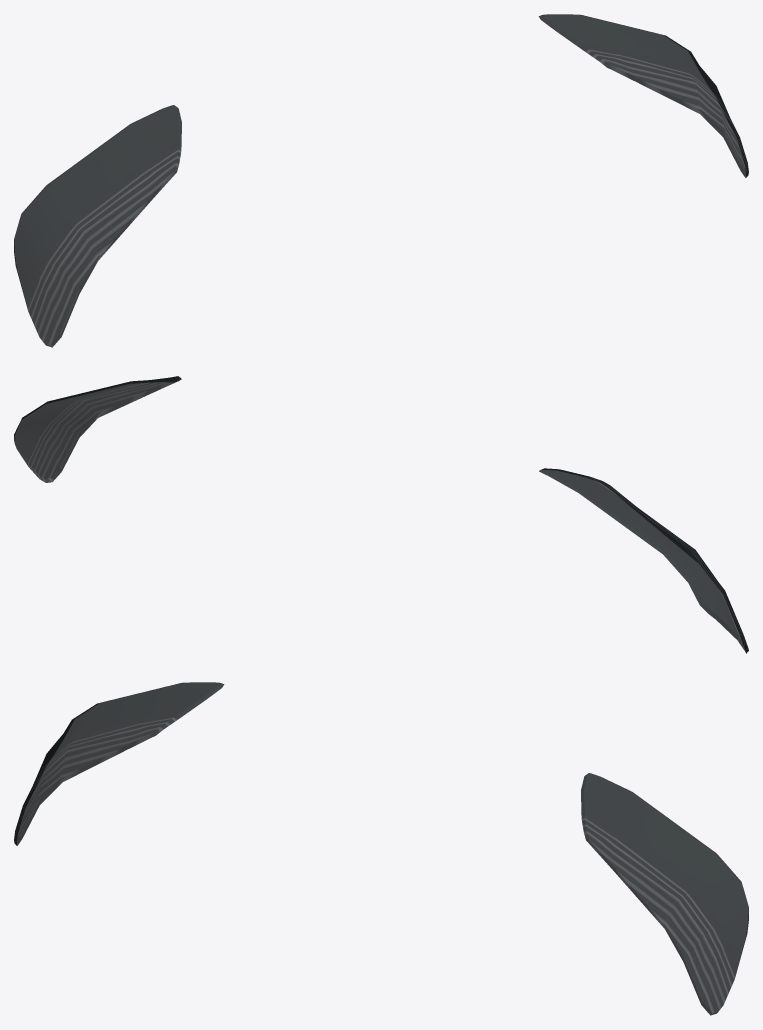
File: tozzo98_headlight_glass_ucb_lights_and_glass_transperent_0.003_.glb
3 views of the same model, one above another, from view 1: azimuth 30°, elevation 25°; view 2: azimuth 150°, elevation 25°; view 3: azimuth 330°, elevation 25° (orthographic).
Visible parts, largest first — view 1: tozzo98_headlight_glass_ucb_lights_and_glass_transperent_0.0; view 2: tozzo98_headlight_glass_ucb_lights_and_glass_transperent_0.0; view 3: tozzo98_headlight_glass_ucb_lights_and_glass_transperent_0.0.
Part boxes in pixels (bbox=[...]): tozzo98_headlight_glass_ucb_lights_and_glass_transperent_0.0: bbox=[14, 14, 748, 347]; tozzo98_headlight_glass_ucb_lights_and_glass_transperent_0.0: bbox=[14, 376, 748, 653]; tozzo98_headlight_glass_ucb_lights_and_glass_transperent_0.0: bbox=[14, 682, 748, 1015].
Size of the model in its own units: 0.1735 by 0.0402 by 0.02.
1 material, 1 textured.
